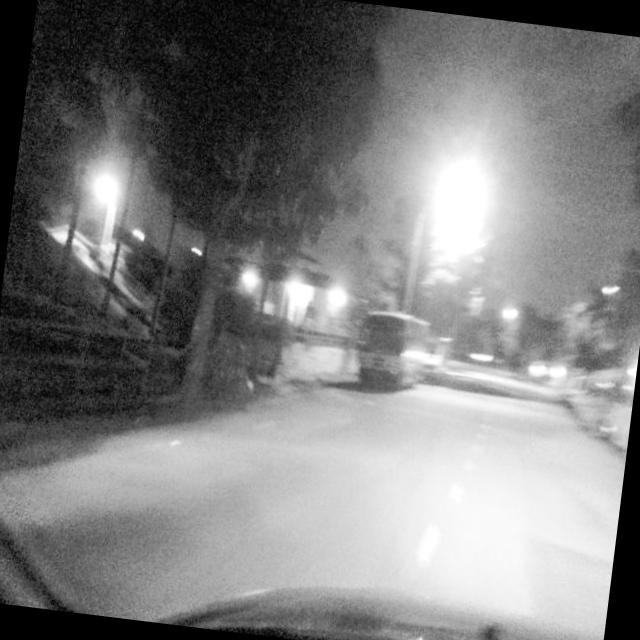Bus: (344, 300, 443, 418)
Car: (0, 523, 607, 640), (570, 338, 640, 454)
